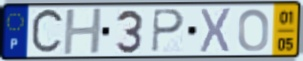3: (113, 7, 145, 56)
C: (29, 6, 66, 58)
H: (62, 7, 105, 57)
O: (237, 7, 271, 53)
P: (151, 8, 186, 55)
X: (199, 6, 234, 55)
